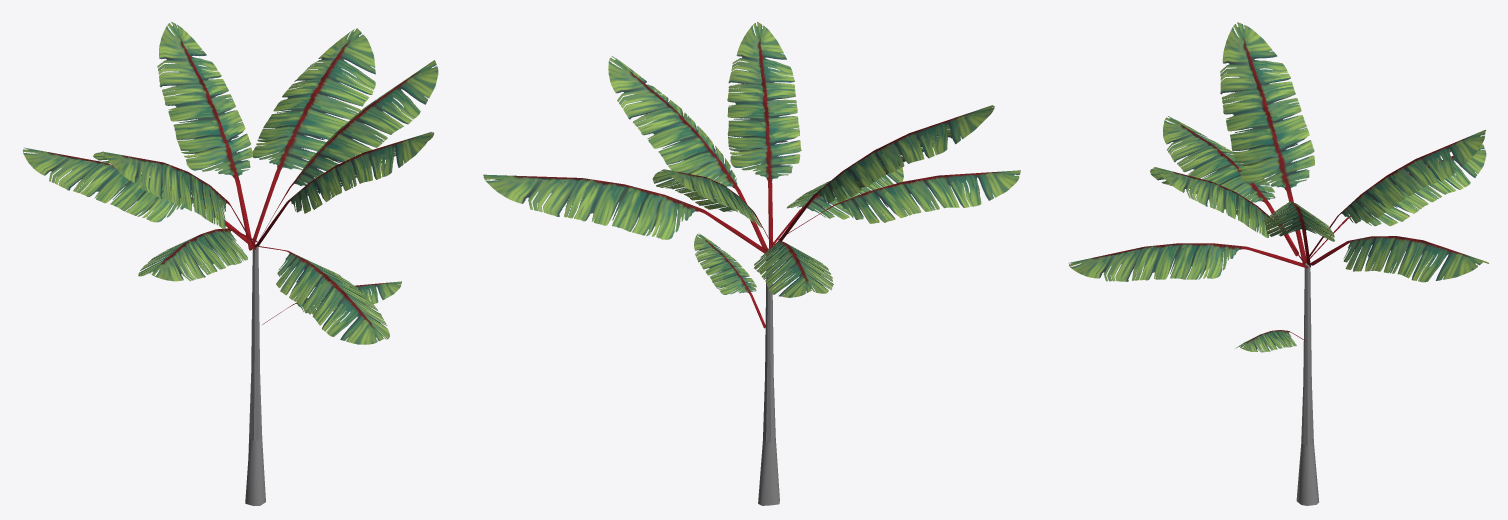
The model's file is bananier.FBX.
3 renders of one model, left to right at view 1: azimuth 30°, elevation 25°; view 2: azimuth 150°, elevation 25°; view 3: azimuth 270°, elevation 25°, orthographic. The views are drawn at different scales.
Parts seen in each view (by area): view 1: Plane008, Cylinder007; view 2: Plane008, Cylinder007; view 3: Plane008, Cylinder007.
Part boxes in pixels (x1,y1,x2,y2): Plane008: [23, 21, 438, 344]; Cylinder007: [245, 244, 265, 505]; Plane008: [483, 22, 1020, 328]; Cylinder007: [758, 249, 779, 505]; Plane008: [1068, 22, 1488, 352]; Cylinder007: [1296, 263, 1318, 505].
Bounding box in the file's own units: 435 × 440 × 436.
